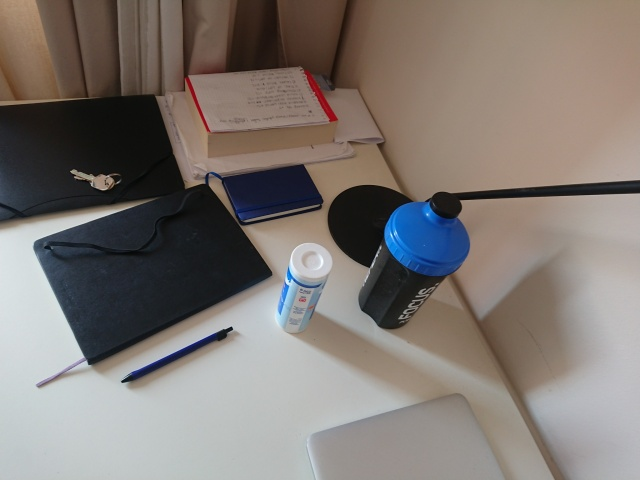Solana Pag Fine Sea Salt 250g: (272, 240, 334, 336)
